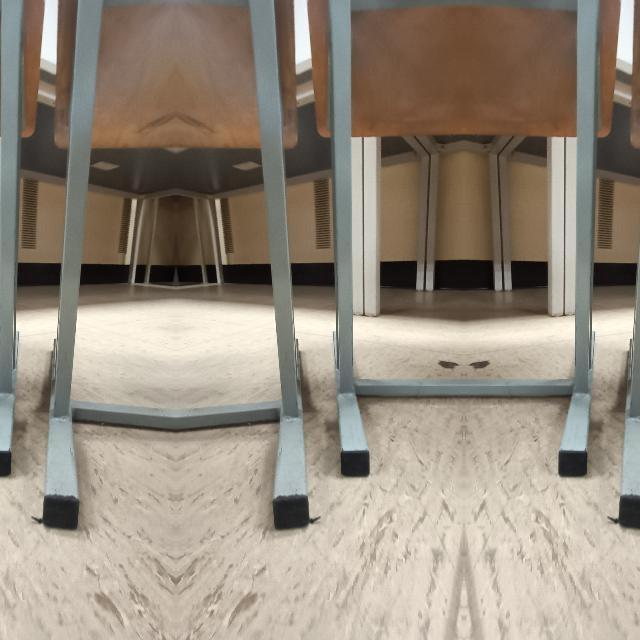obstacle: (254, 98, 318, 530), (32, 98, 96, 530), (548, 100, 598, 476), (329, 100, 378, 476), (609, 97, 640, 530), (0, 100, 20, 475)
